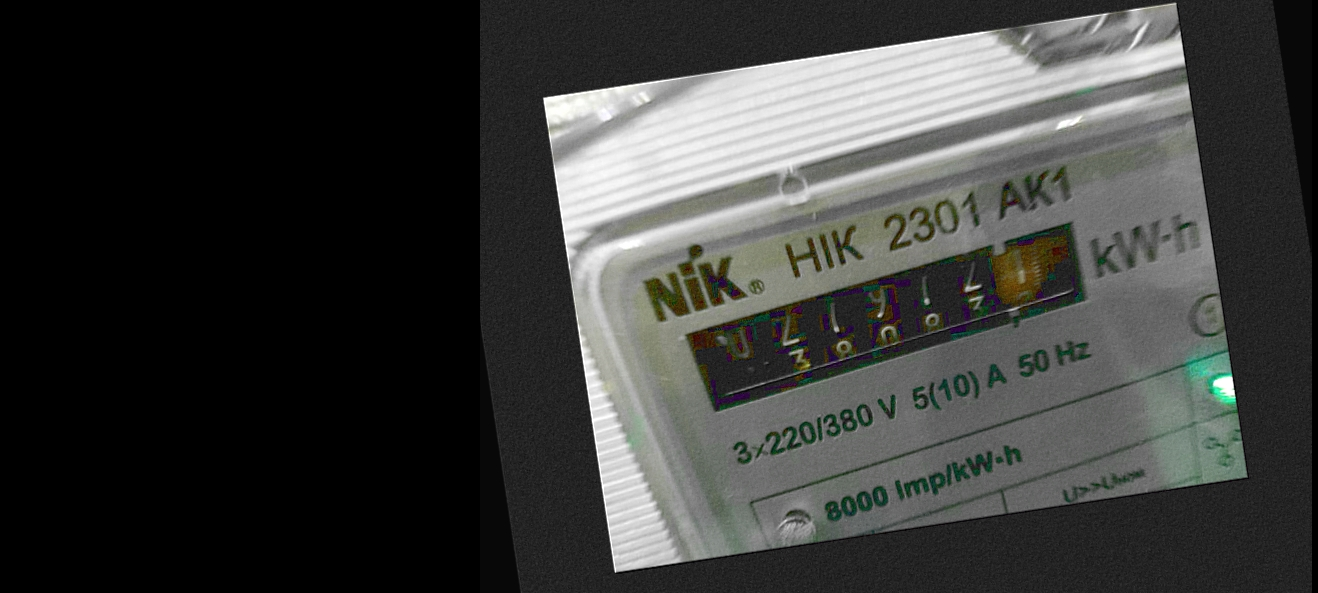0: (723, 322, 756, 362)
1: (1007, 243, 1035, 289)
2: (770, 306, 805, 349), (954, 254, 988, 295)
7: (909, 267, 940, 311), (819, 297, 847, 337)
9: (865, 282, 895, 321)
screen: (660, 207, 1130, 427)
